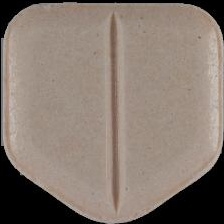54868-6247: (0, 0, 224, 224)
